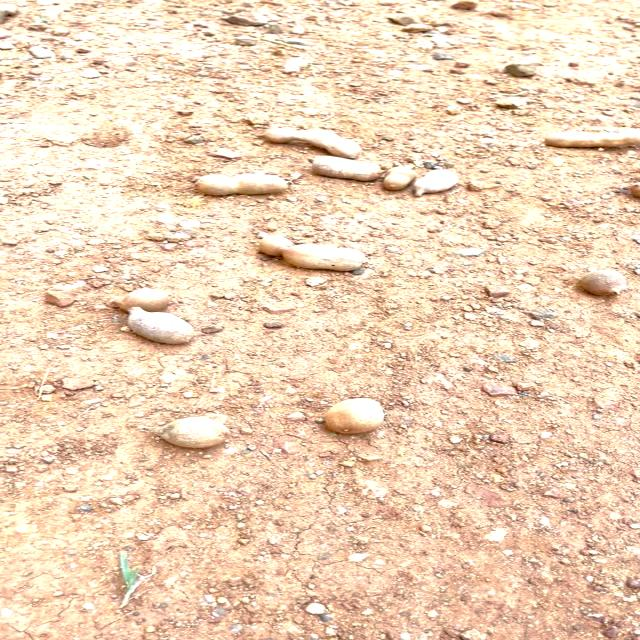tamarind: (258, 234, 372, 273), (263, 124, 360, 161), (128, 309, 195, 352), (164, 414, 235, 452), (325, 392, 385, 435), (185, 174, 292, 195), (412, 164, 471, 200), (538, 129, 640, 148), (308, 156, 384, 180), (120, 288, 168, 312), (381, 162, 419, 191), (582, 272, 624, 298)
